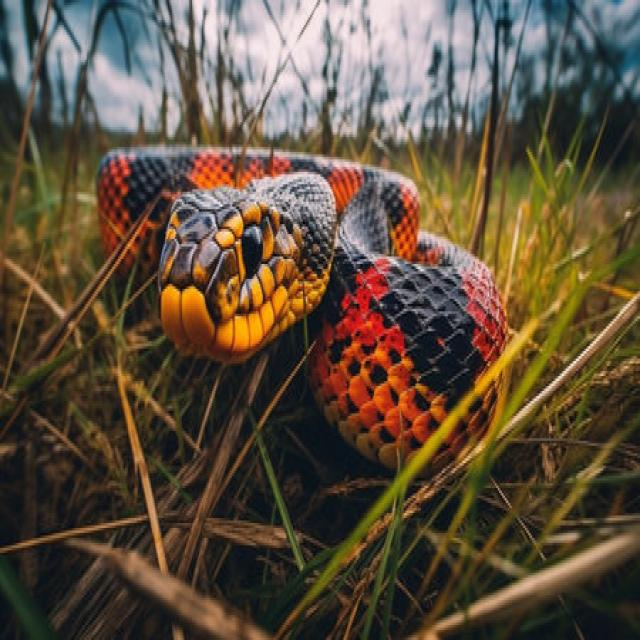Carnivorous: (95, 149, 511, 476)
